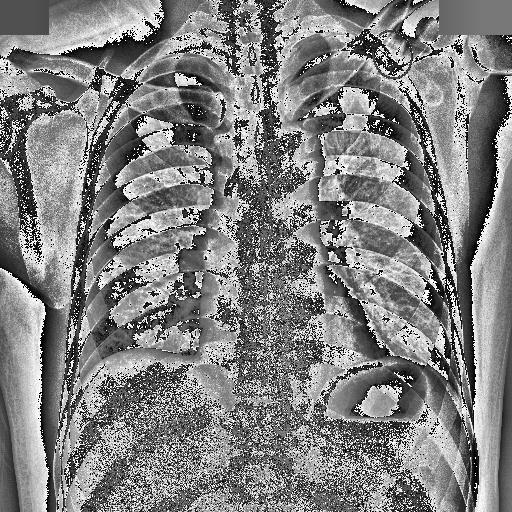0- Aortic enlargement: (267, 124, 325, 204), (266, 131, 326, 186), (272, 128, 326, 178)
9- Other lesion: (370, 30, 416, 80)
